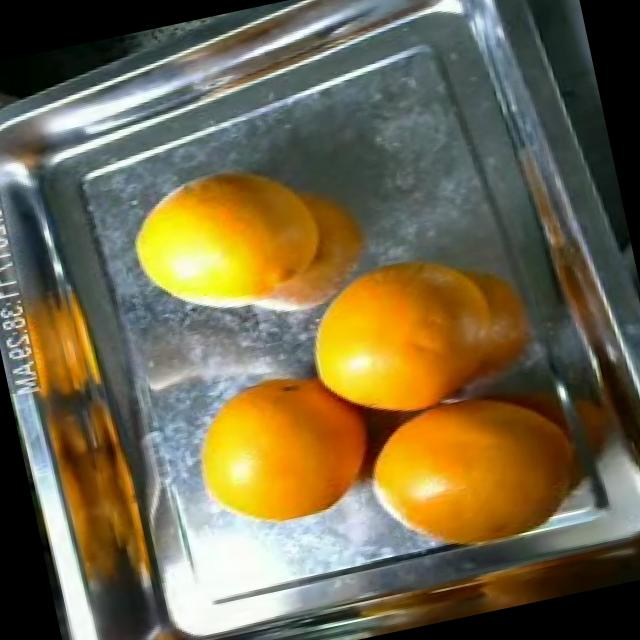Fruit: (157, 338, 406, 554), (98, 136, 344, 344)
